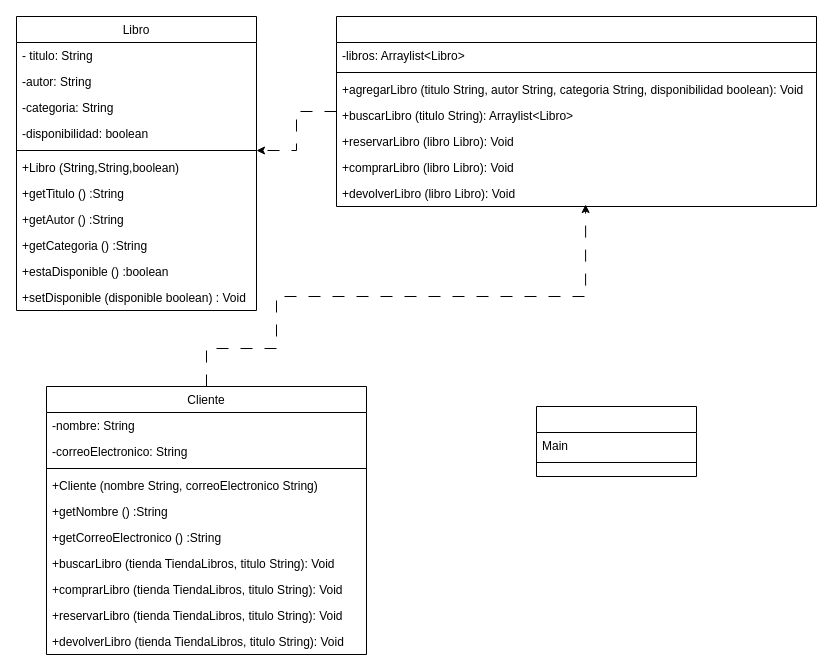
Image size: 833x671. Some labels were removed from this diagram. The shapes that lost their labels are listed below. From the top down, each one's box as (x1, y1, x2, y2) in pixels, then its label:
(336, 16, 816, 206): TiendaLibros
(536, 406, 696, 476): Principal
